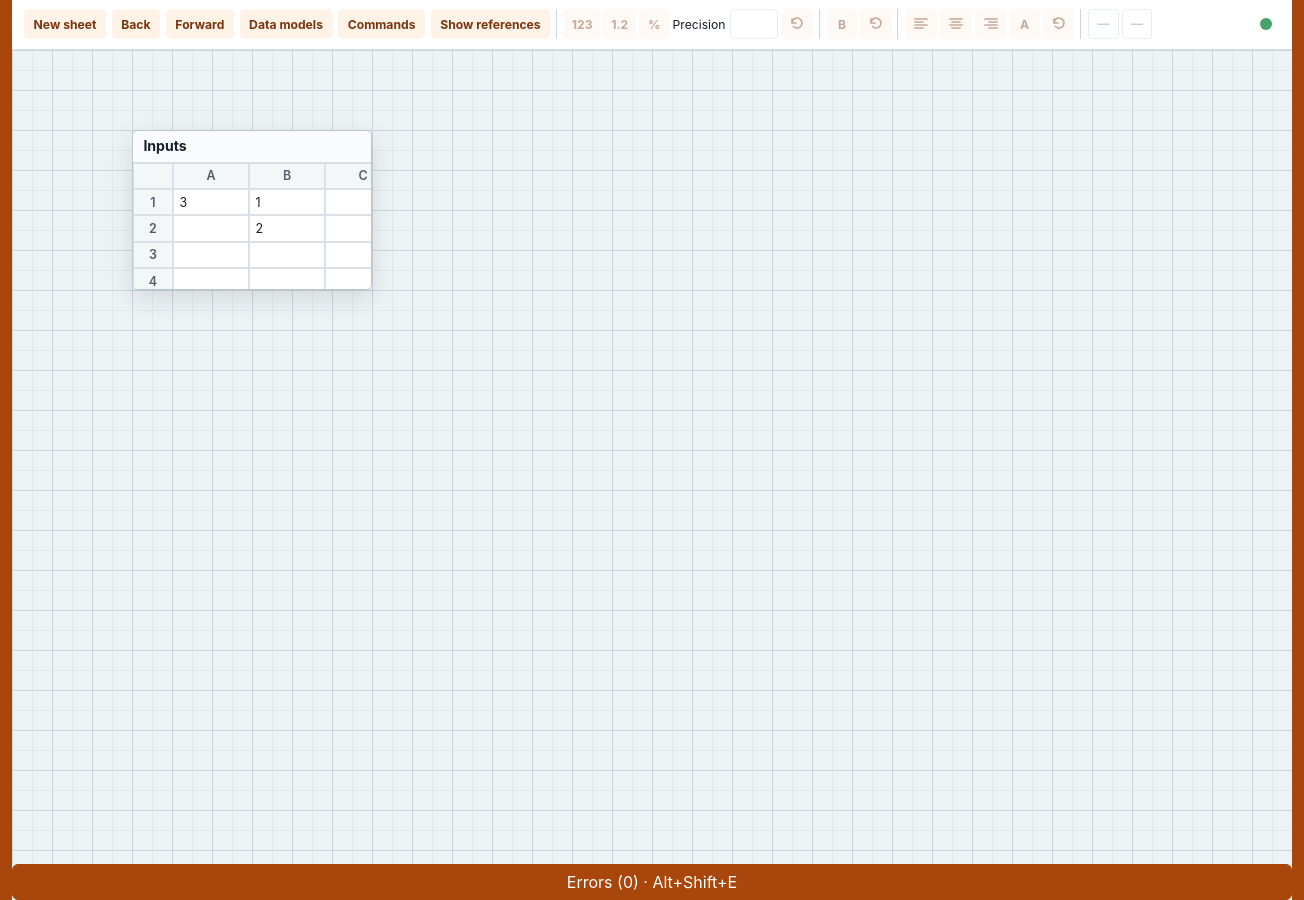
Scenario: App formula composition › recomputes a visible formula after a committed cell edit
Expected: the cell named "Inputs A1 cell" reads "3", [180,195,187,210]
Step 1. Click the cell named "Inputs B2 cell" → (287,229), box [249,215,325,242]
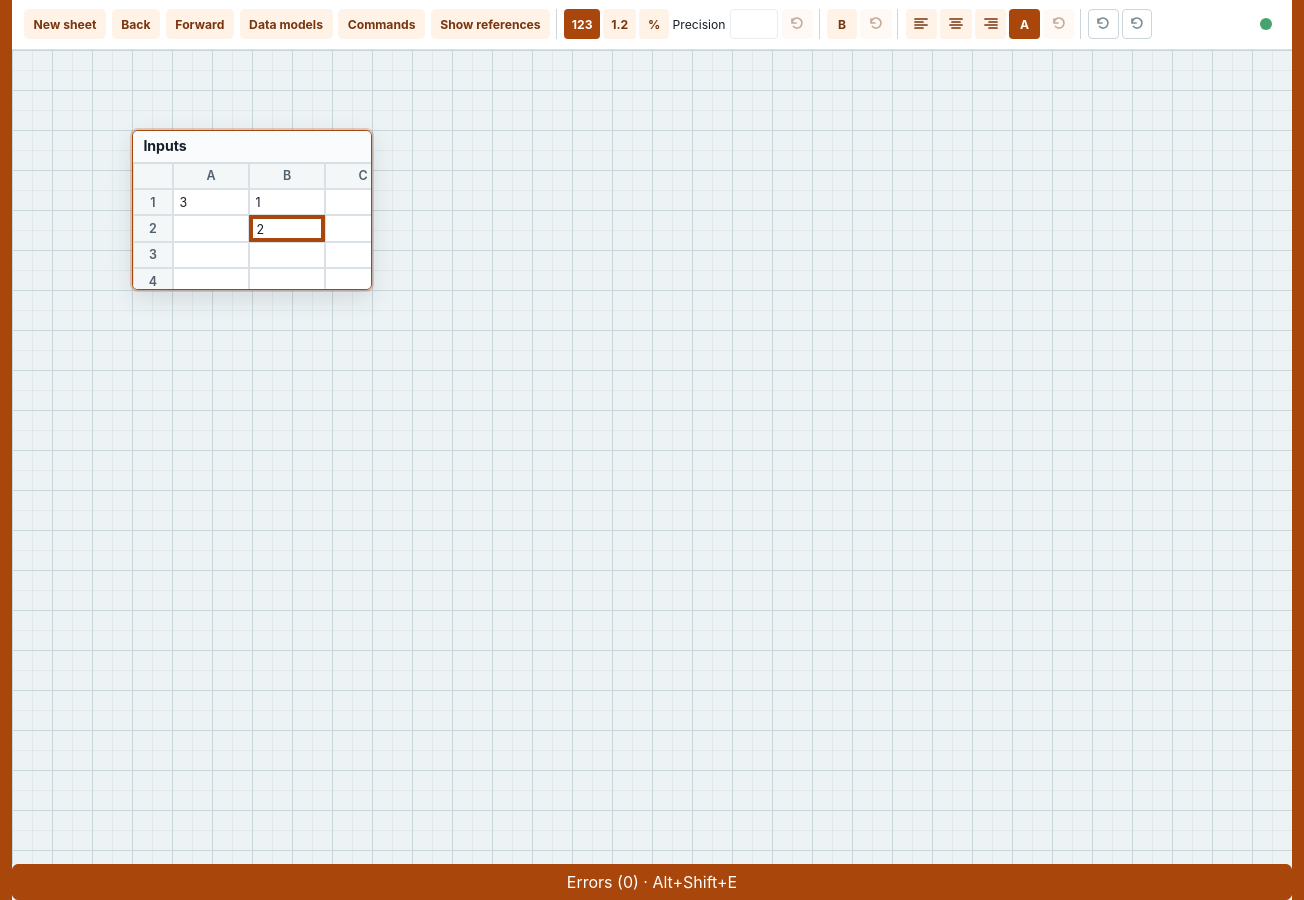
Step 2. Press F2 in the cell named "Inputs B2 cell", box [249,215,325,242]
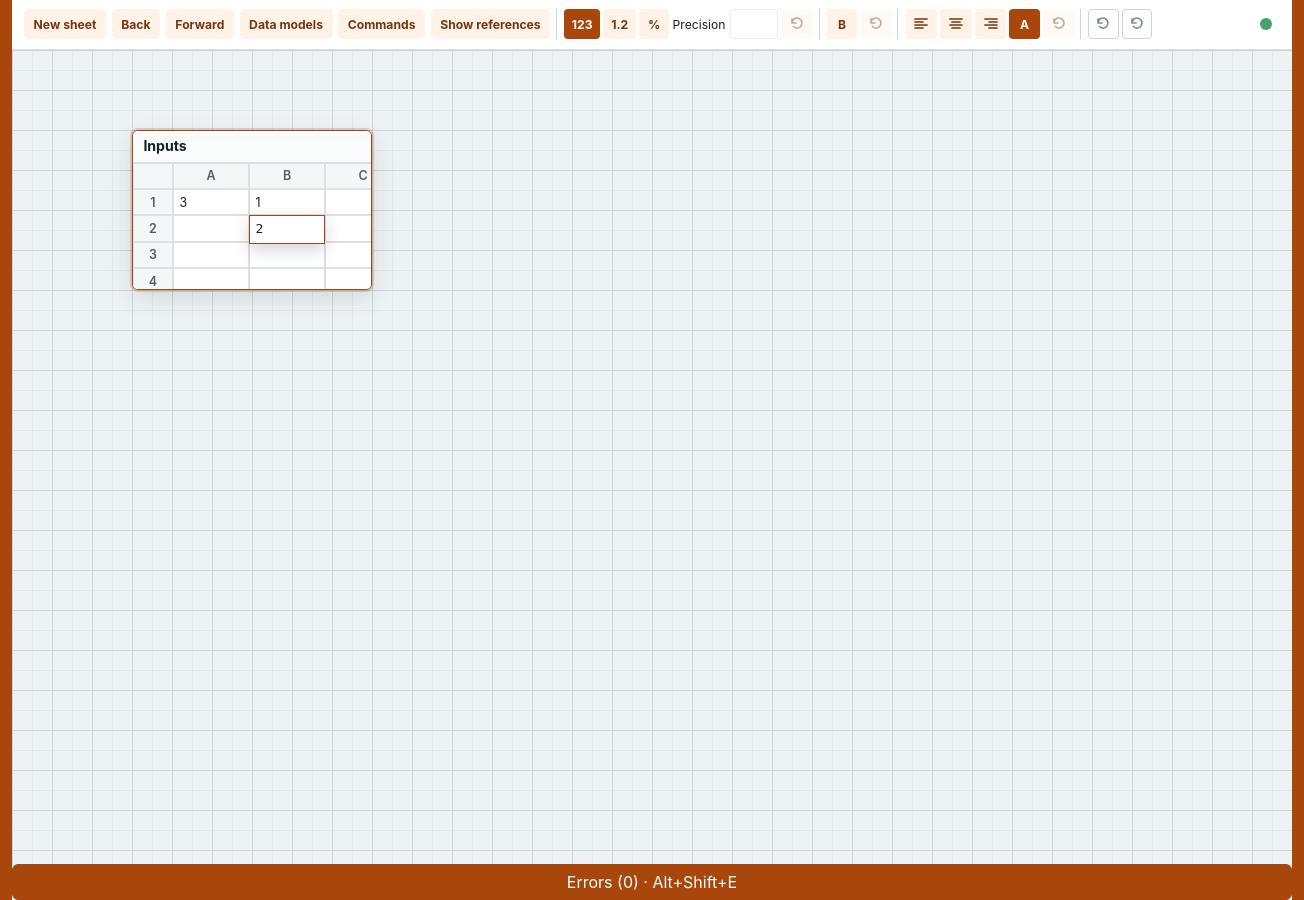
Step 3. Replace the text in the text box with "5" → (287,230), box [250,216,324,243]
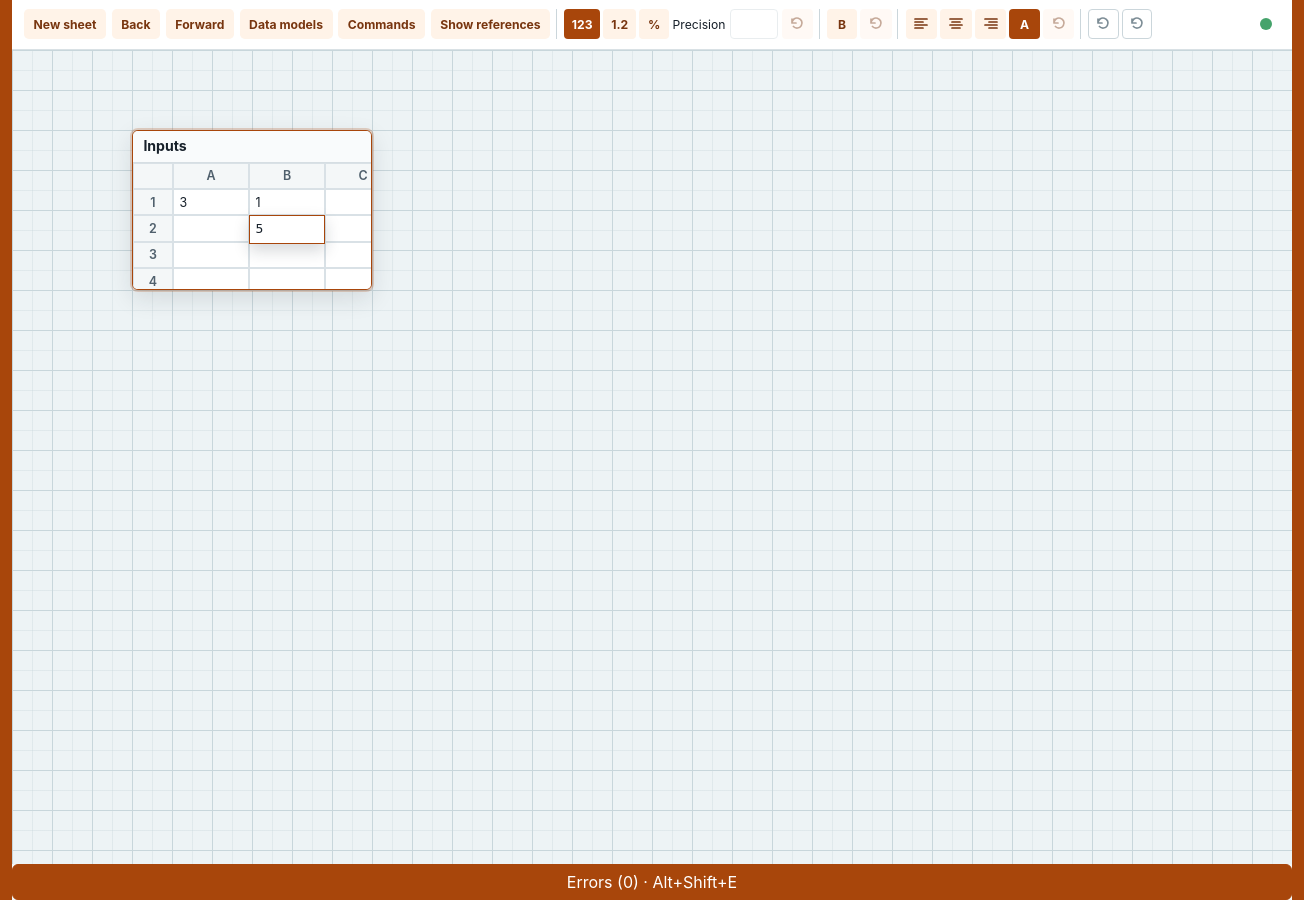
Step 4. Press Enter
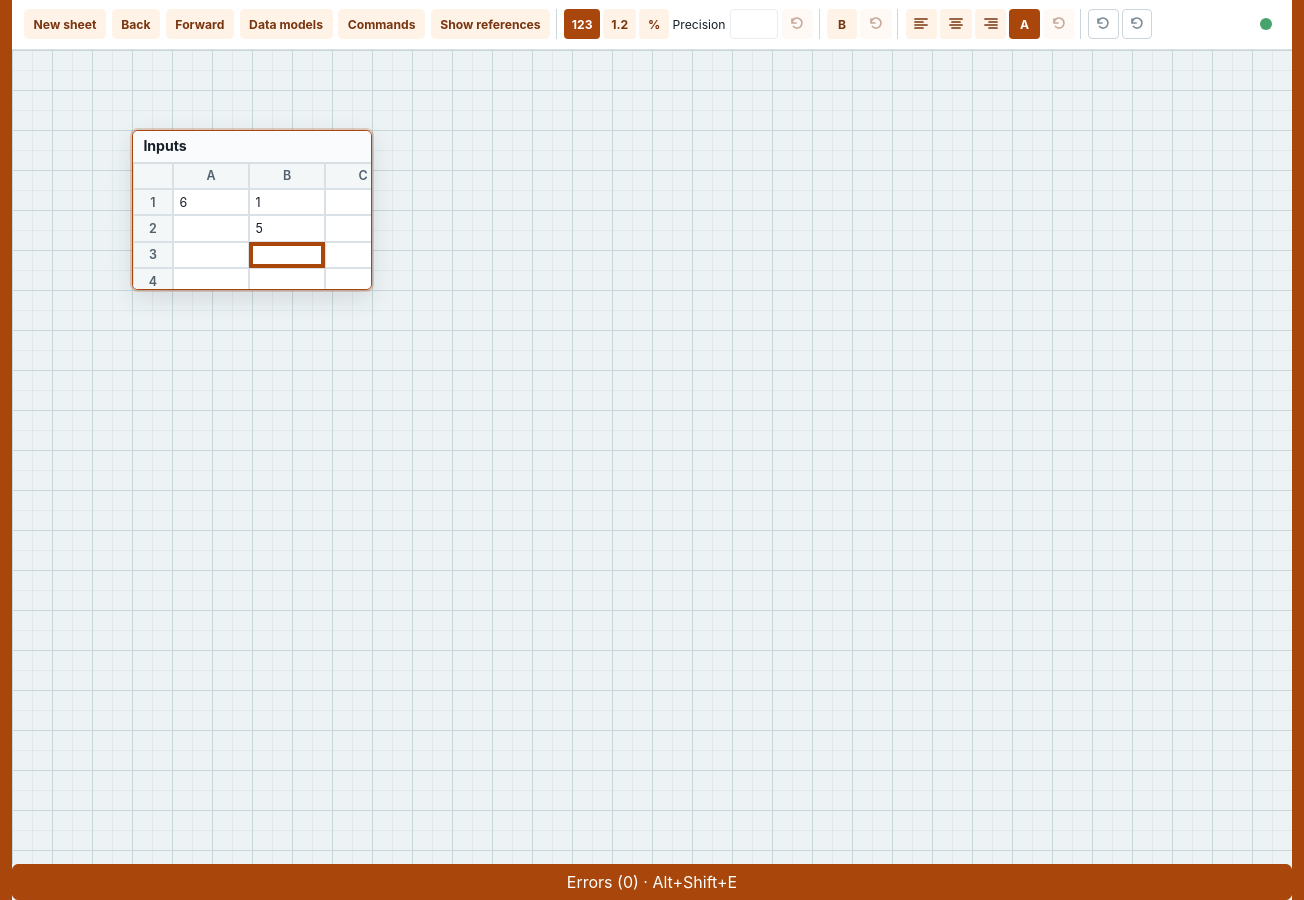
Expected: the cell named "Inputs A1 cell" reads "6", [180,195,187,210]
